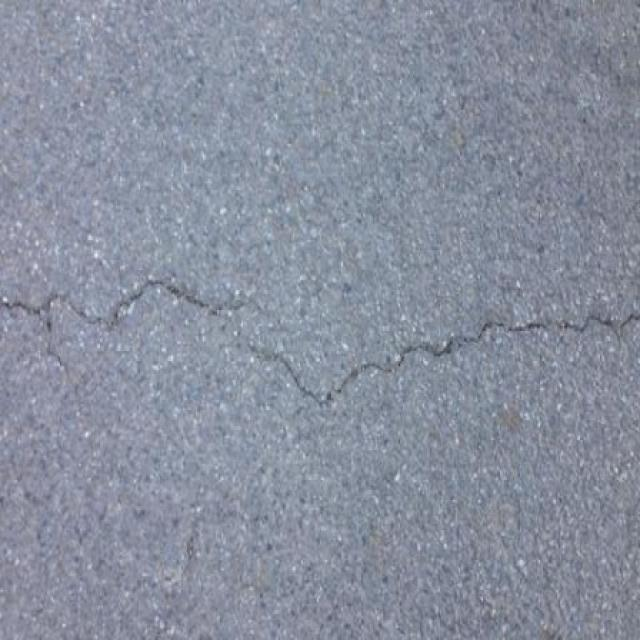Alligator Crack: (0, 275, 640, 439)
